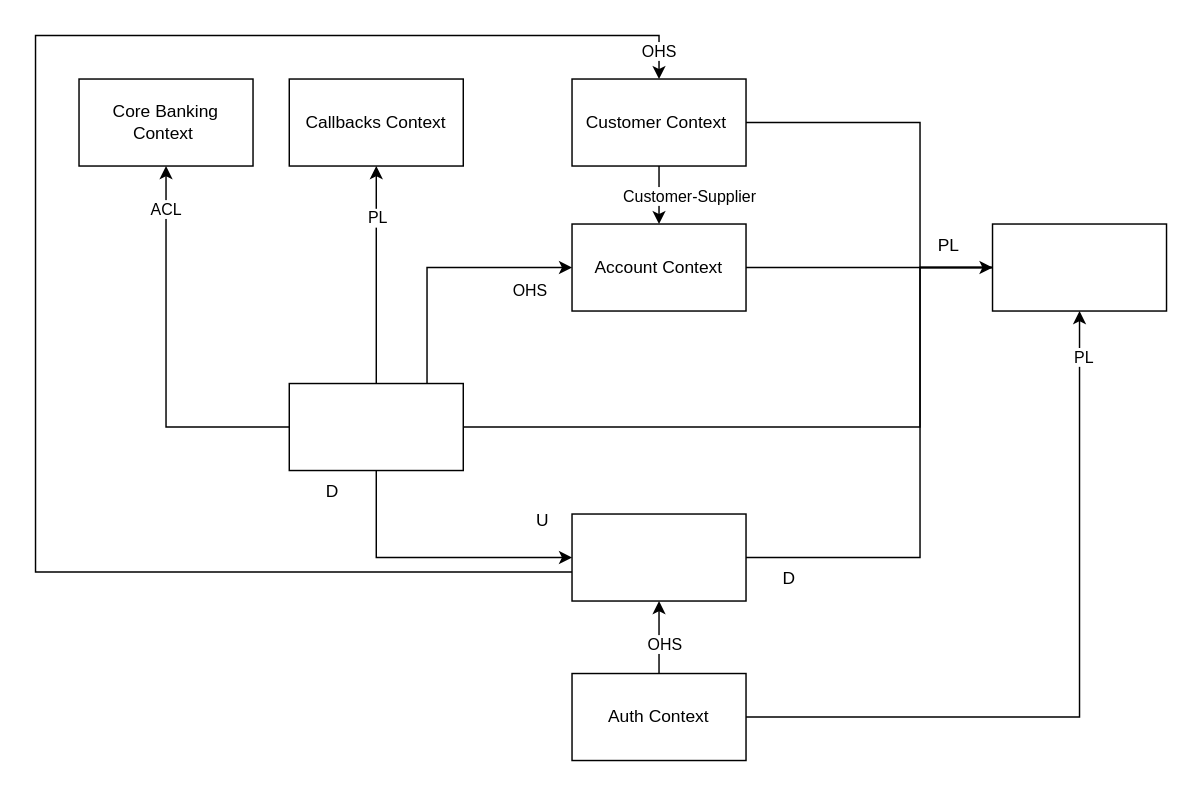
This 1192x786 diagram has some shape labels left out. The centre of each missing label's shape, as x and y in pixels:
"Anti-Fraud / Scoring Context" belongs at [658,557].
"Notifications Context" belongs at [1079,267].
"Payments Context" belongs at [375,426].
